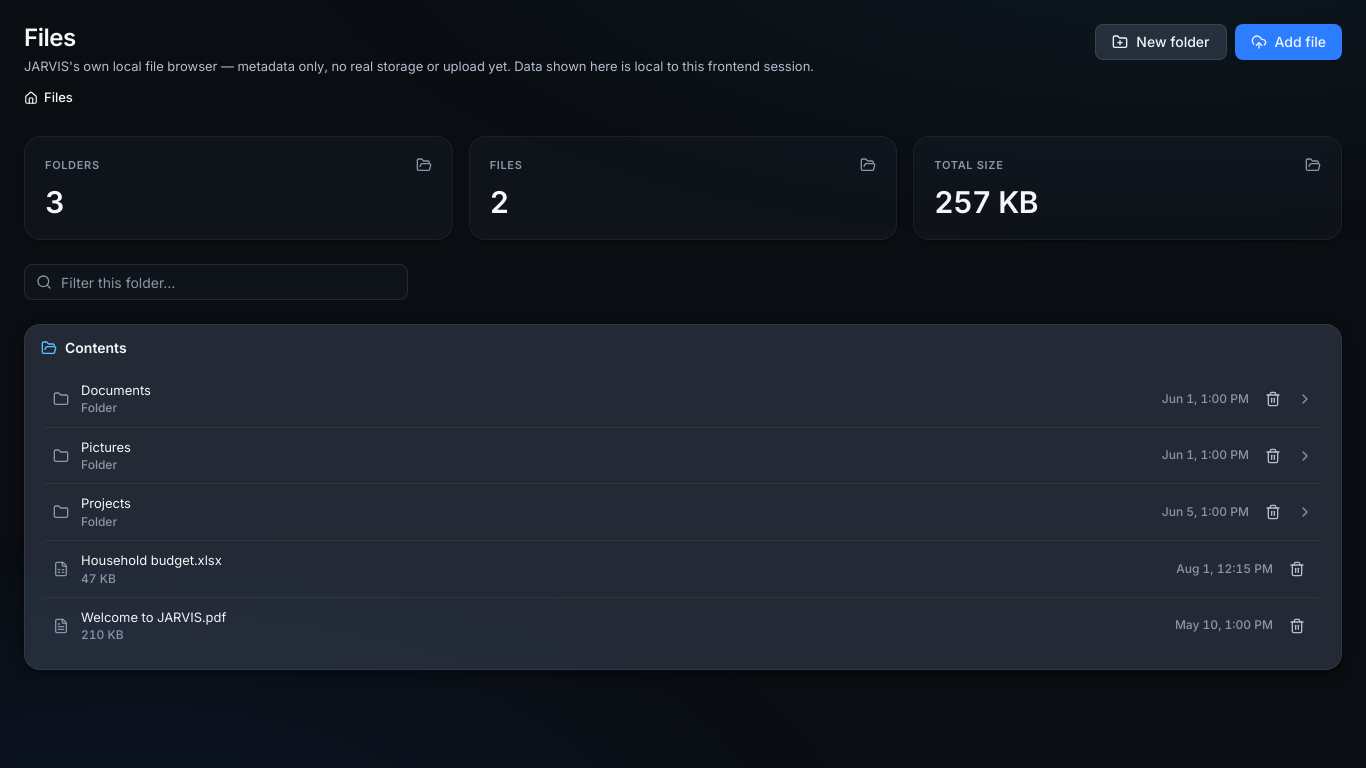
Test: FilesPage › filters the current folder by search text
Later steps or results of the test are not shown.
expect the button with test id "file-row-folder-1" is shown: met, box [41, 371, 1325, 427]
Type "budget" into the search field with test id "files-filter-input". click: (216, 282)
box: [24, 264, 408, 300]
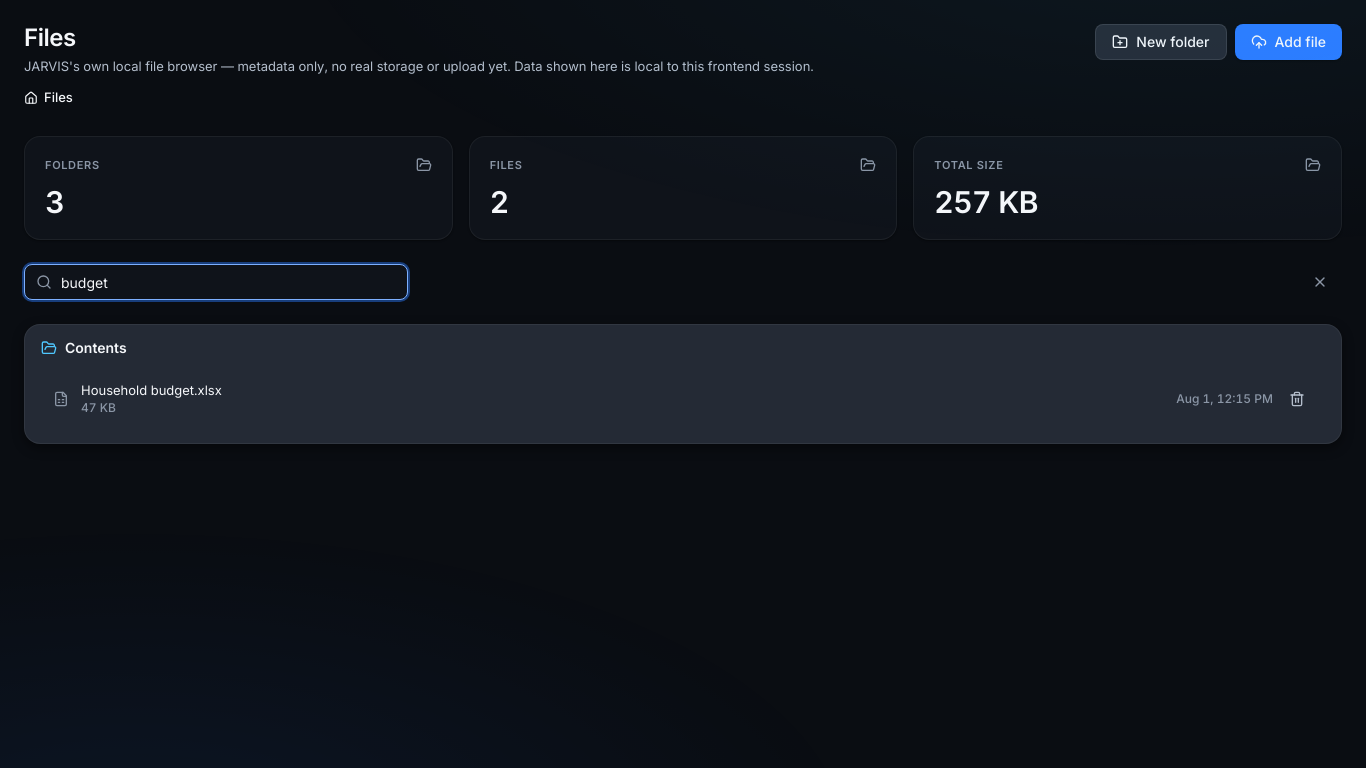
expect the button with test id "file-row-file-1" is shown: met, box [41, 371, 1325, 427]
expect the button with test id "file-row-folder-1" is gone: met
